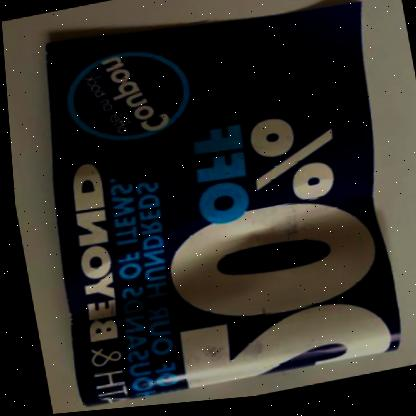Paper: (44, 7, 393, 407)
